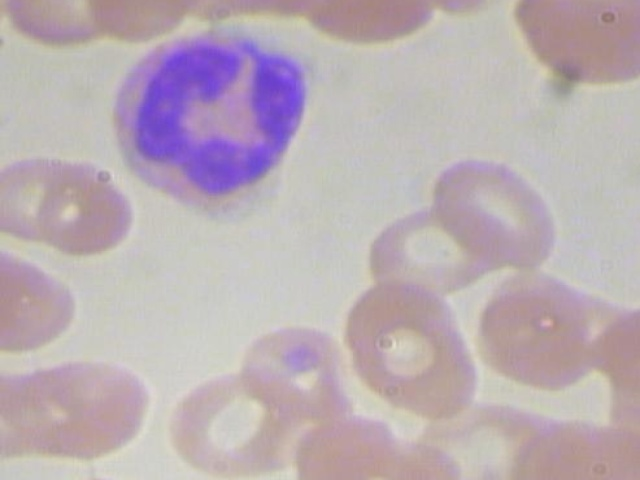RBC: (335, 277, 491, 423), (424, 150, 568, 274), (361, 184, 504, 308), (471, 272, 613, 396), (162, 360, 306, 480), (8, 353, 152, 462), (228, 324, 370, 426), (510, 0, 640, 88), (24, 165, 138, 259), (0, 149, 115, 239), (0, 241, 86, 354), (0, 357, 56, 466)
WBC: (80, 22, 348, 231)
